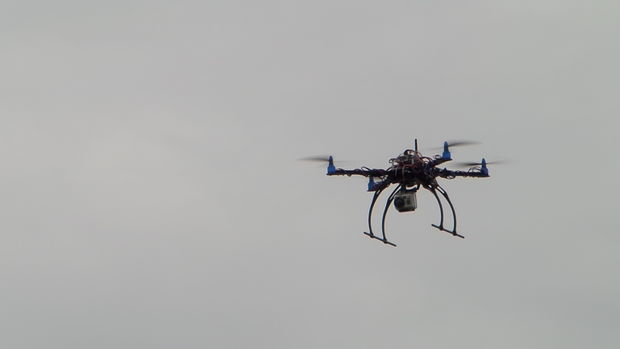drone: (296, 136, 509, 251)
